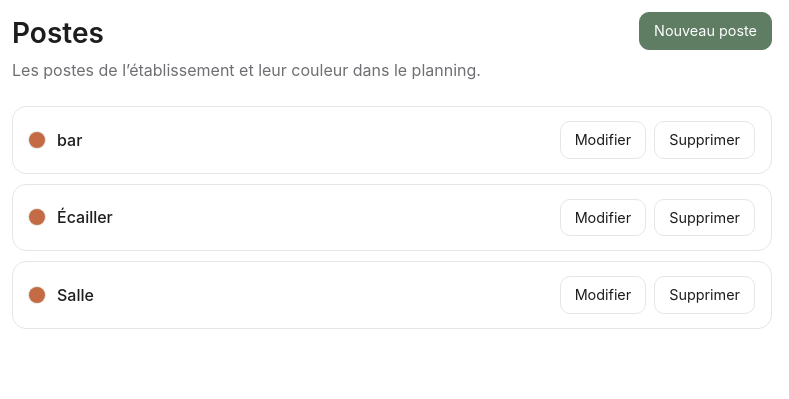
it: positions page › explains why a position still given to employees is kept
Expected: the button "Nouveau poste" is shown, [639,12,772,50]
Click the button with aria-label "Supprimer le poste Salle".
click(705, 295)  # box [654,276,755,314]
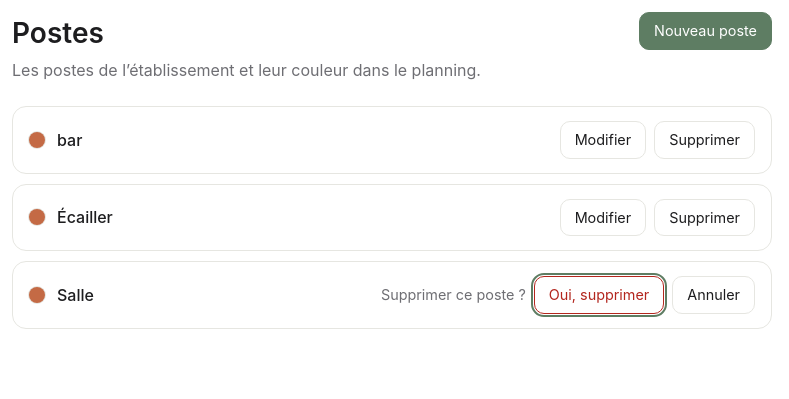
Click the button "Oui, supprimer".
click(599, 295)  # box [534,276,664,314]
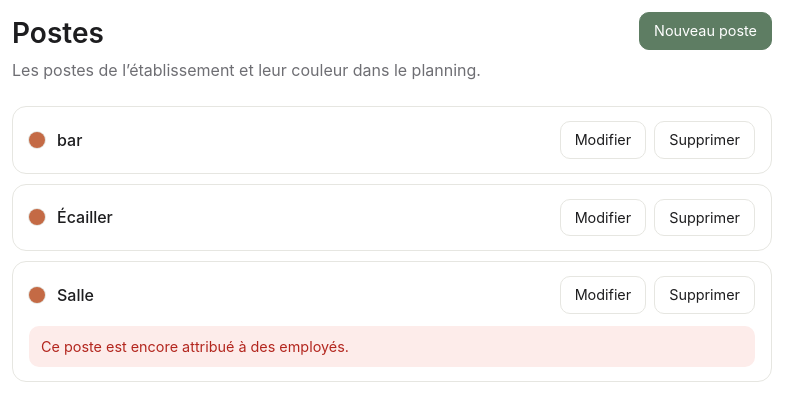
Expected: the message reads "Ce poste est encore attribué à des employés.", [41,338,349,355]
